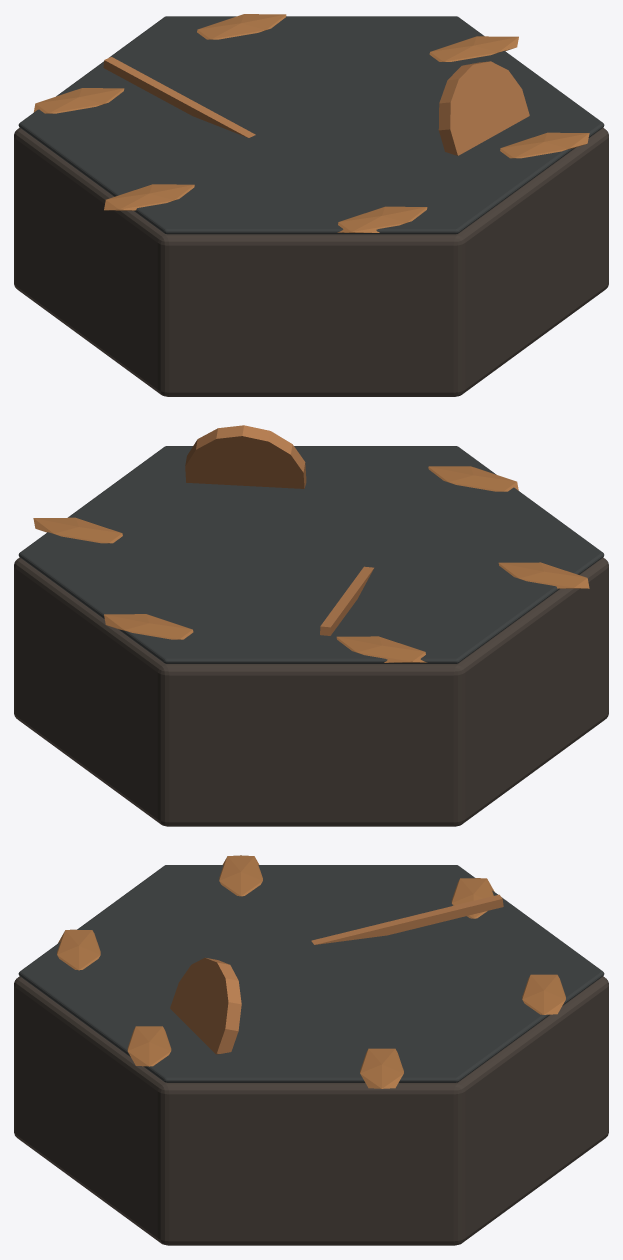
Rendered from hex_sump.glb.
The picture shows the model from 3 angles, top to bottom: view 1: azimuth 30°, elevation 25°; view 2: azimuth 150°, elevation 25°; view 3: azimuth 270°, elevation 25°; orthographic projection.
Parts seen in each view (by area): view 1: hex_sump; view 2: hex_sump; view 3: hex_sump.
Boxes of the visible parts, x1,y1,x2,y2 form: hex_sump: (14, 14, 608, 396); hex_sump: (14, 425, 608, 826); hex_sump: (14, 855, 608, 1245).
Size of the model in its own units: 1.83 by 0.8365 by 1.95.
